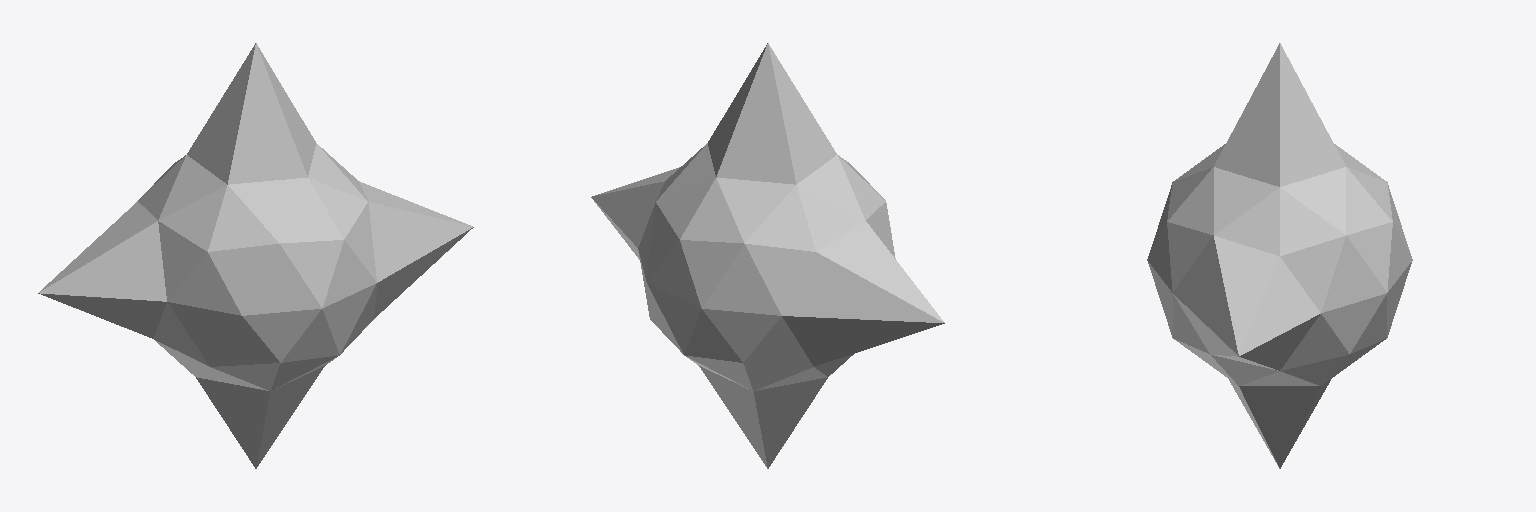
The model's file is eball.obj.
3 renders of one model, left to right at view 1: azimuth 30°, elevation 25°; view 2: azimuth 150°, elevation 25°; view 3: azimuth 270°, elevation 25°, orthographic.
Parts seen in each view (by area): view 1: Icosphere; view 2: Icosphere; view 3: Icosphere.
Boxes of the visible parts, x1=… form: Icosphere: x1=38, y1=43, x2=473, y2=468; Icosphere: x1=591, y1=43, x2=944, y2=468; Icosphere: x1=1147, y1=43, x2=1412, y2=468.
Bounding box in the file's own units: 3.44 × 3.55 × 2.